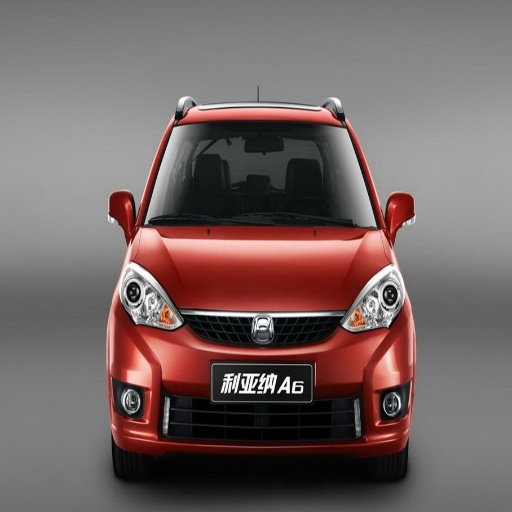front_bumper: (113, 310, 413, 450)
front_right_light: (119, 263, 181, 330)
hood: (133, 227, 387, 310)
